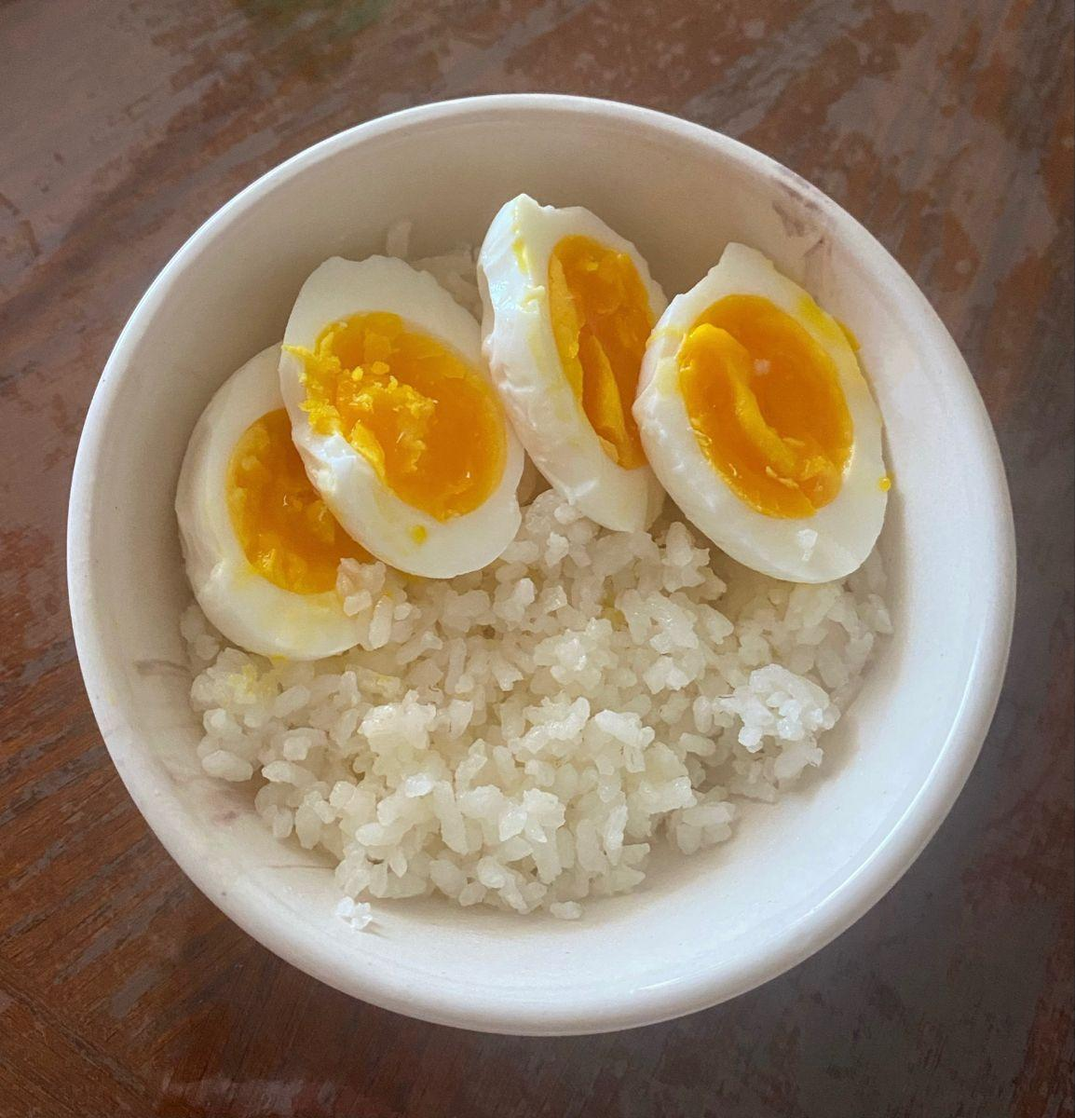makanan_berpati: (369, 624, 779, 816)
telur: (689, 295, 829, 534), (350, 288, 460, 519), (522, 245, 633, 467), (216, 399, 284, 637)
